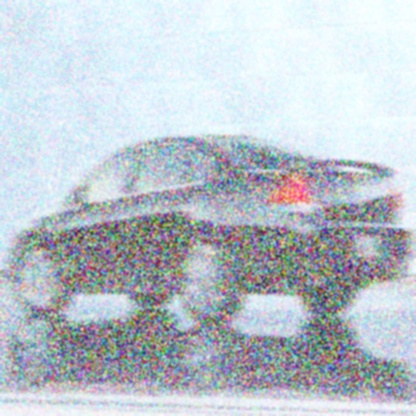Vehicle: (9, 132, 415, 328)
